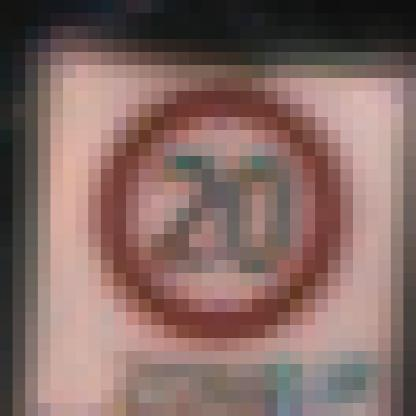Speed Limit 20: (110, 93, 331, 331)
